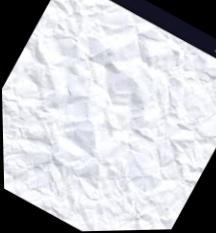paper: (1, 0, 215, 231)
